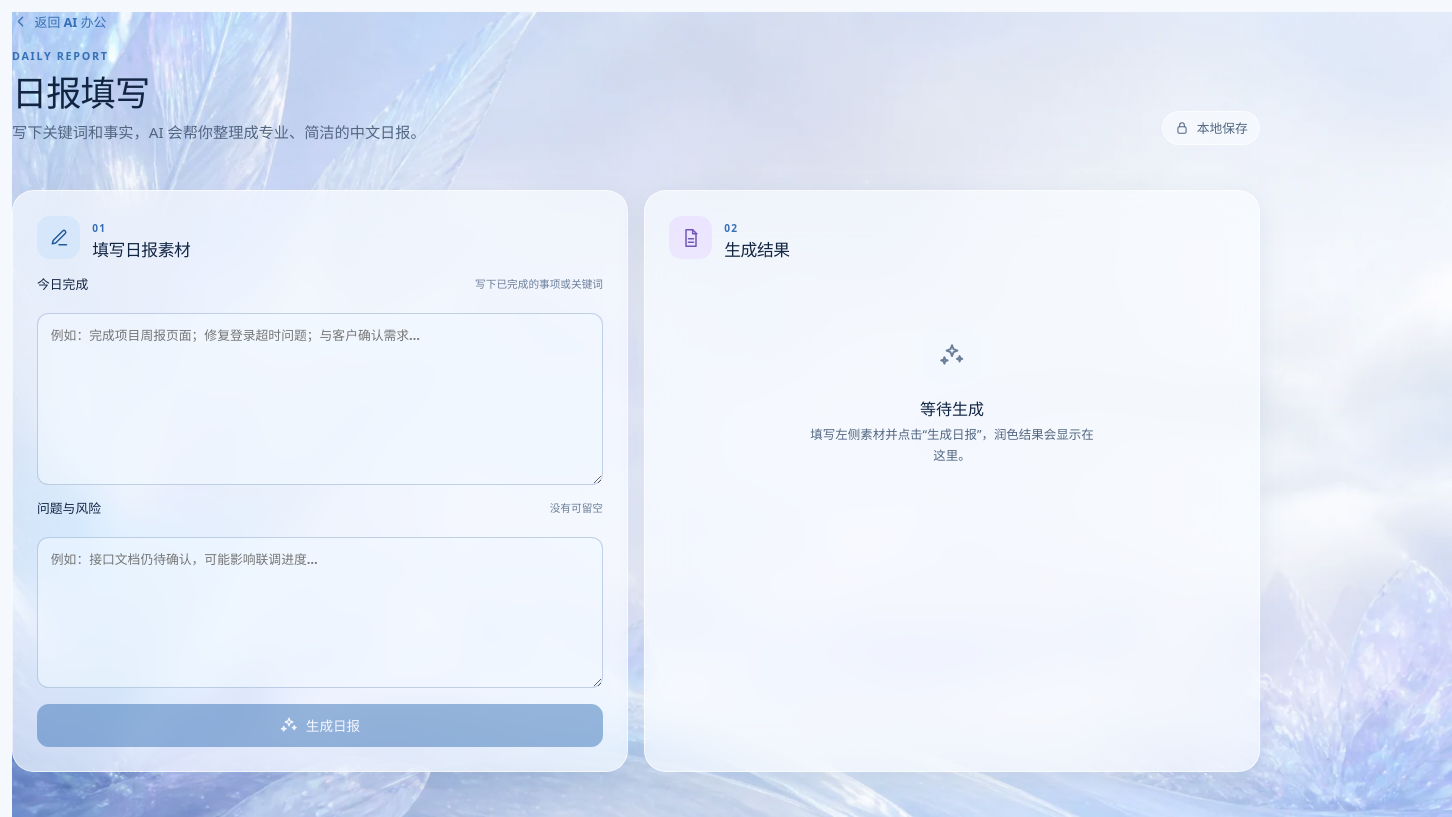
Test: AI Office daily report flow › keeps a successful result and shows a distinct warning when only history refresh fails
Step 1. Type "完成日报页面" into the text box labelled "今日完成" → (320, 399), box [37, 313, 603, 485]
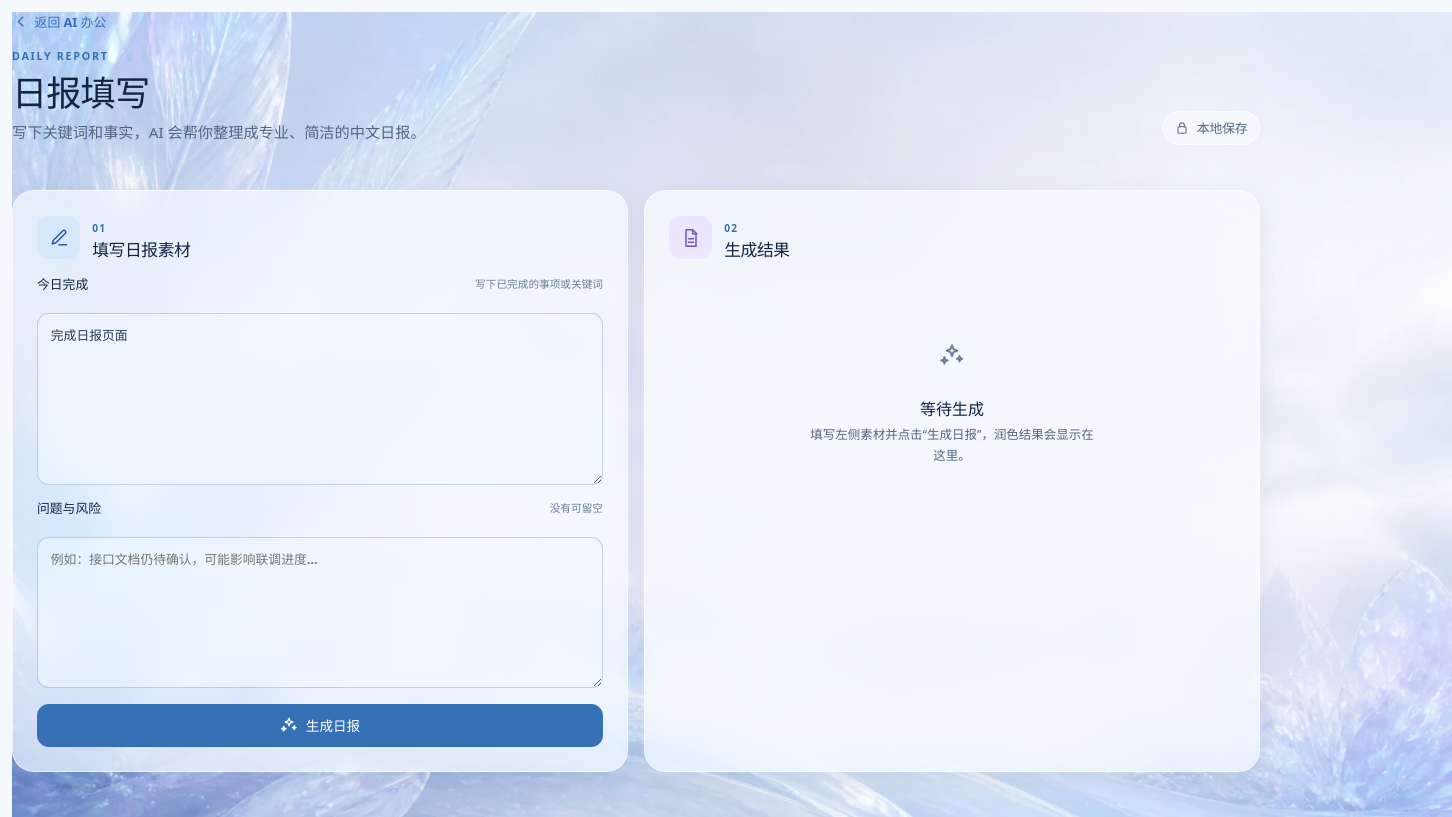
Step 2. Click the button "生成日报" → (320, 725), box [37, 704, 603, 747]
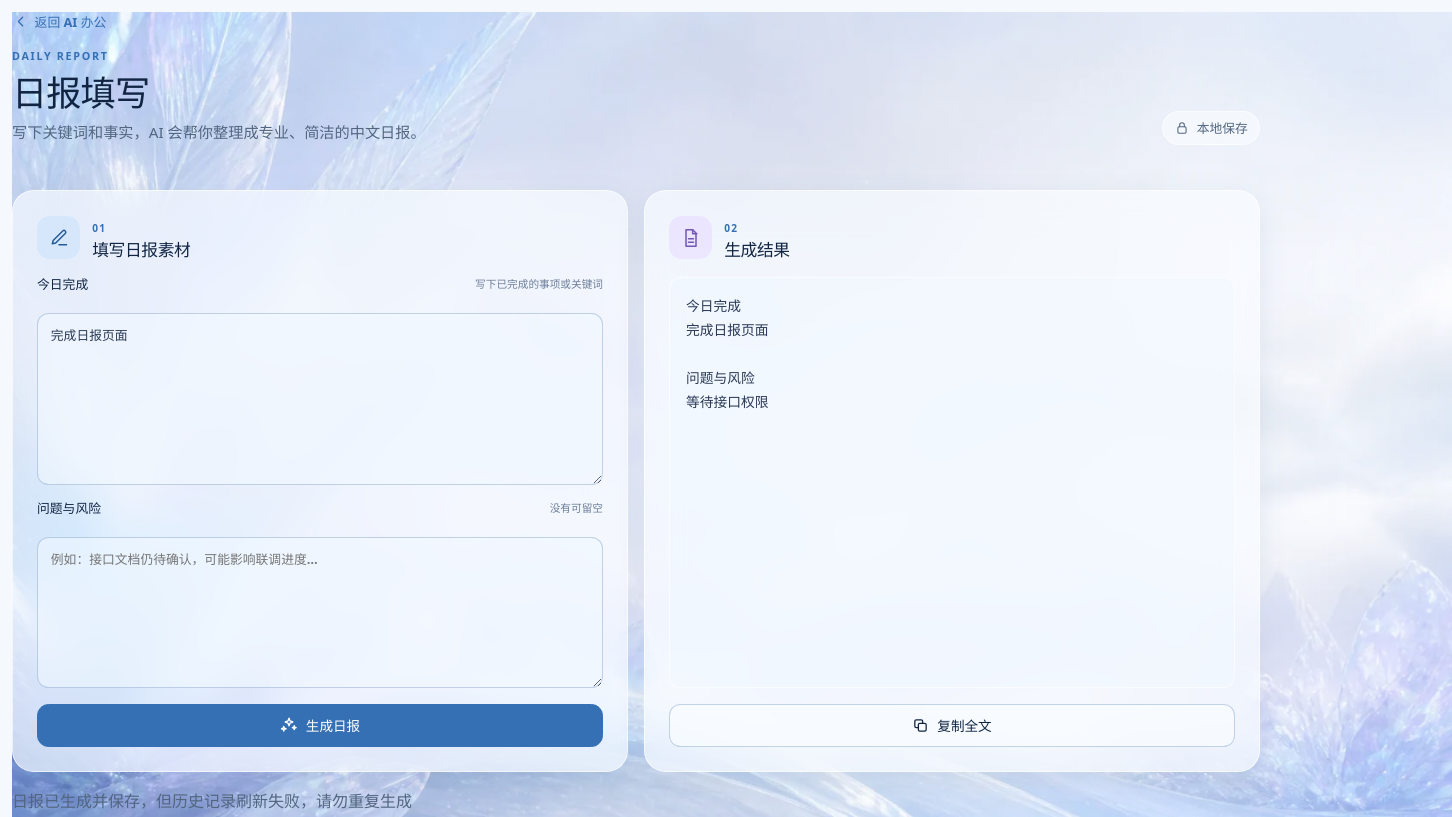
Result: the element "生成结果" shows "完成日报页面" at [686, 296, 768, 411]
Result: the message reads "日报已生成并保存，但历史记录刷新失败，请勿重复生成" at [12, 790, 412, 812]
